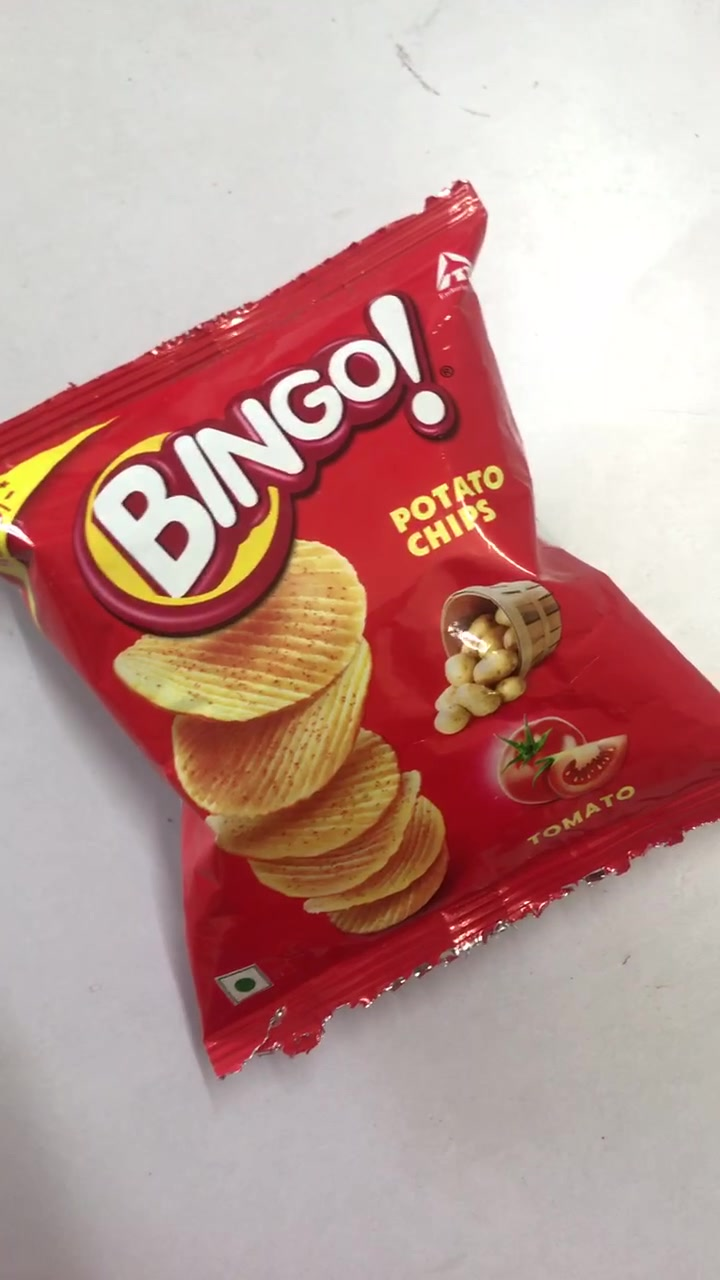Bingo: (2, 224, 720, 1052)
